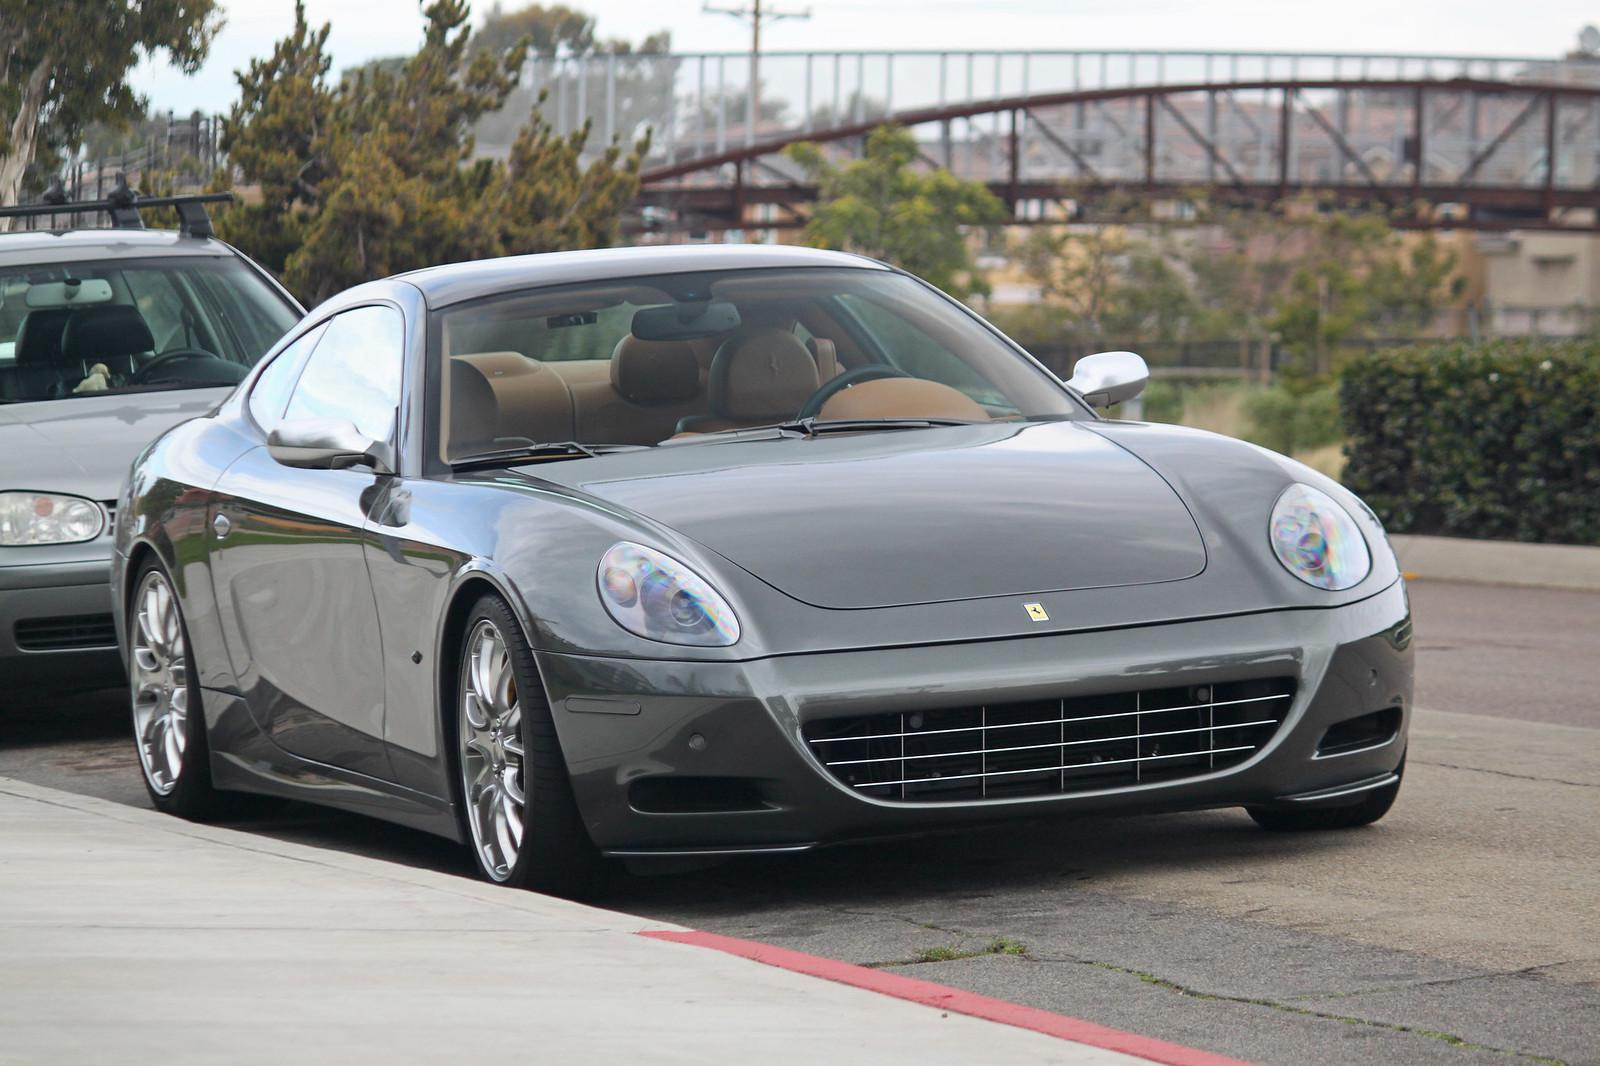front-bumper-dent: (545, 677, 1080, 883)
